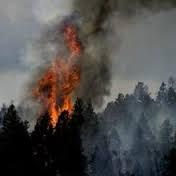fire: (32, 23, 84, 125)
